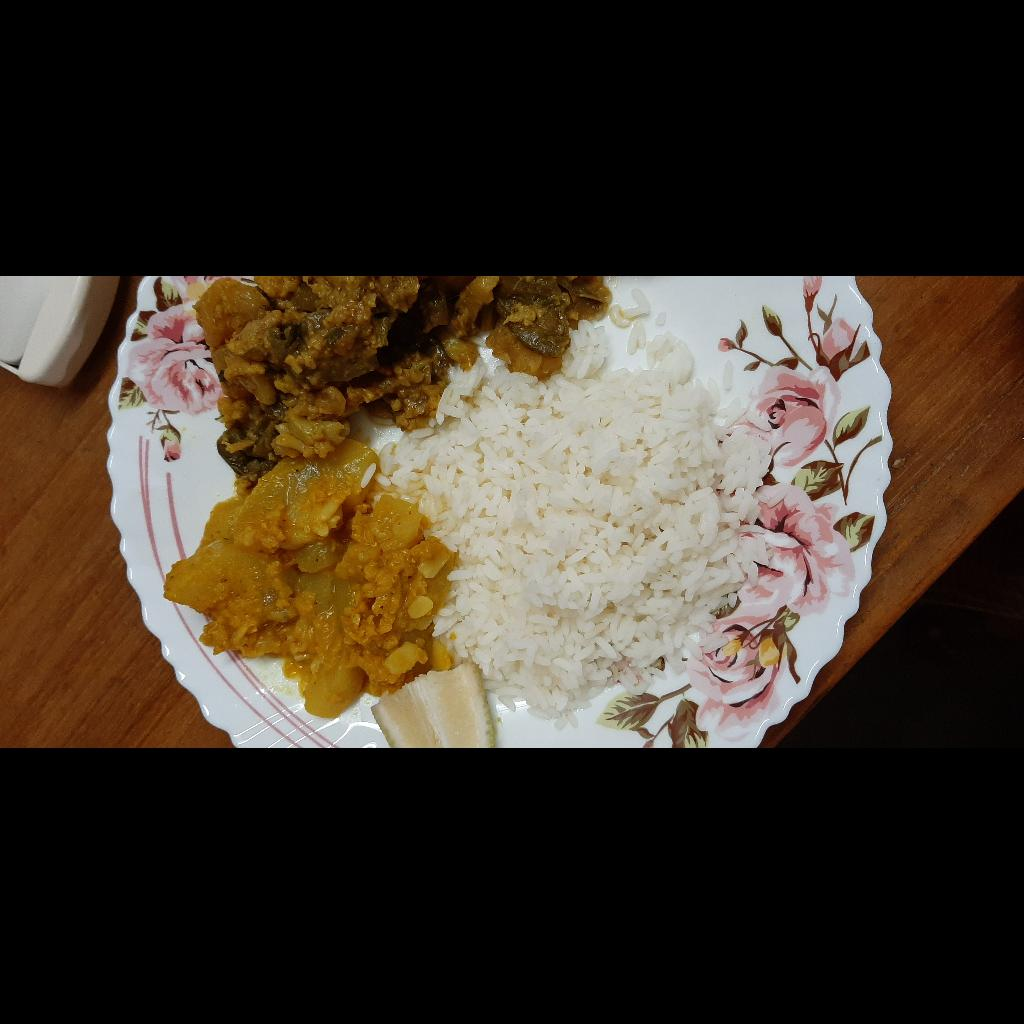lau: (25, 430, 309, 731)
lemon: (0, 648, 81, 771)
rice: (22, 652, 462, 1024)
vegetable: (273, 463, 472, 885)
